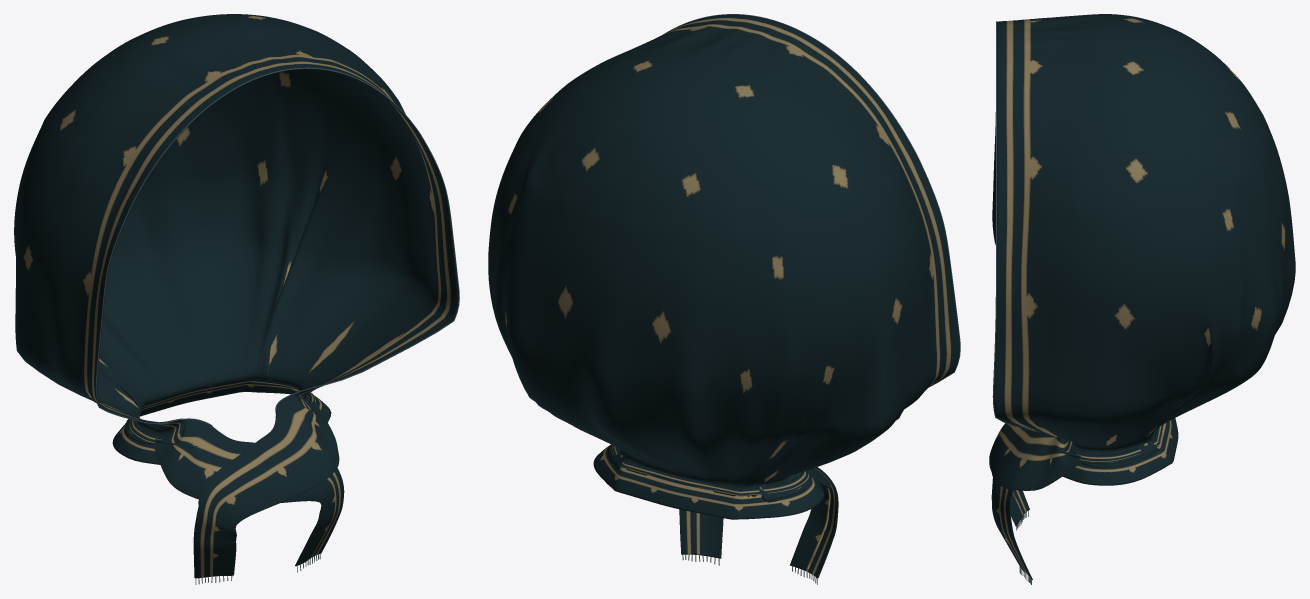
The model's file is Feminine-triangle-pashmina239-headgear.glb.
3 renders of one model, left to right at view 1: azimuth 30°, elevation 25°; view 2: azimuth 150°, elevation 25°; view 3: azimuth 270°, elevation 25°, orthographic. The views are drawn at different scales.
Visible parts, largest first — view 1: 226 headgear / Headwear / continuous woven pashmina239, 226 headgear / Headwear / face edge239; view 2: 226 headgear / Headwear / continuous woven pashmina239, 226 headgear / Headwear / face edge239; view 3: 226 headgear / Headwear / continuous woven pashmina239, 226 headgear / Headwear / face edge239.
Boxes of the visible parts, <box> form: 226 headgear / Headwear / continuous woven pashmina239: <box>14,14,458,578</box>; 226 headgear / Headwear / face edge239: <box>95,67,459,426</box>; 226 headgear / Headwear / continuous woven pashmina239: <box>488,14,959,578</box>; 226 headgear / Headwear / face edge239: <box>663,14,960,387</box>; 226 headgear / Headwear / continuous woven pashmina239: <box>989,14,1295,579</box>; 226 headgear / Headwear / face edge239: <box>992,21,1041,432</box>.
Bounding box in the file's own units: 1.02 × 1.35 × 0.7191.
3 materials, 1 textured.
